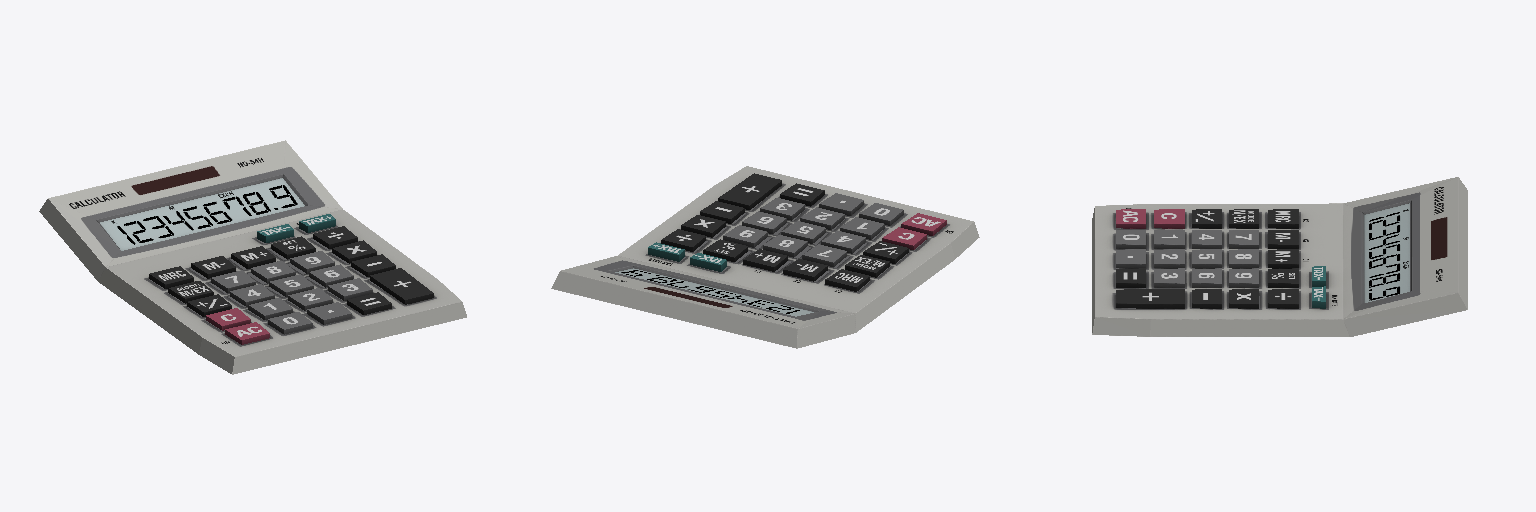
3 renders of one model, left to right at view 1: azimuth 30°, elevation 25°; view 2: azimuth 150°, elevation 25°; view 3: azimuth 270°, elevation 25°, orthographic.
Visible parts, largest first — view 1: Calculator_mesh; view 2: Calculator_mesh; view 3: Calculator_mesh.
Boxes of the visible parts, <box> form: Calculator_mesh: <box>39,140,466,374</box>; Calculator_mesh: <box>551,166,979,348</box>; Calculator_mesh: <box>1092,177,1467,336</box>.
Size of the model in its own units: 3.78 by 0.6288 by 5.
Materials: 1 (1 with a texture image).